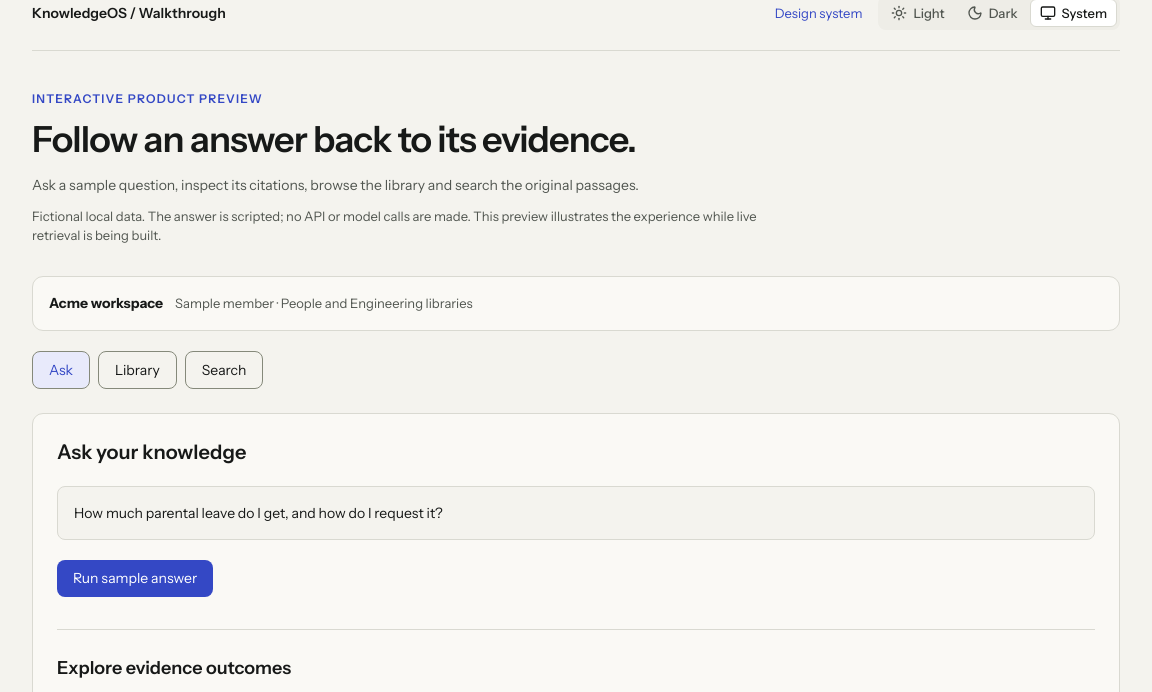
Test: demo walkthrough › opens the original passage through an answer citation
Click the button "Run sample answer".
click(135, 578)  # box [57, 560, 213, 597]
(page scrolled)
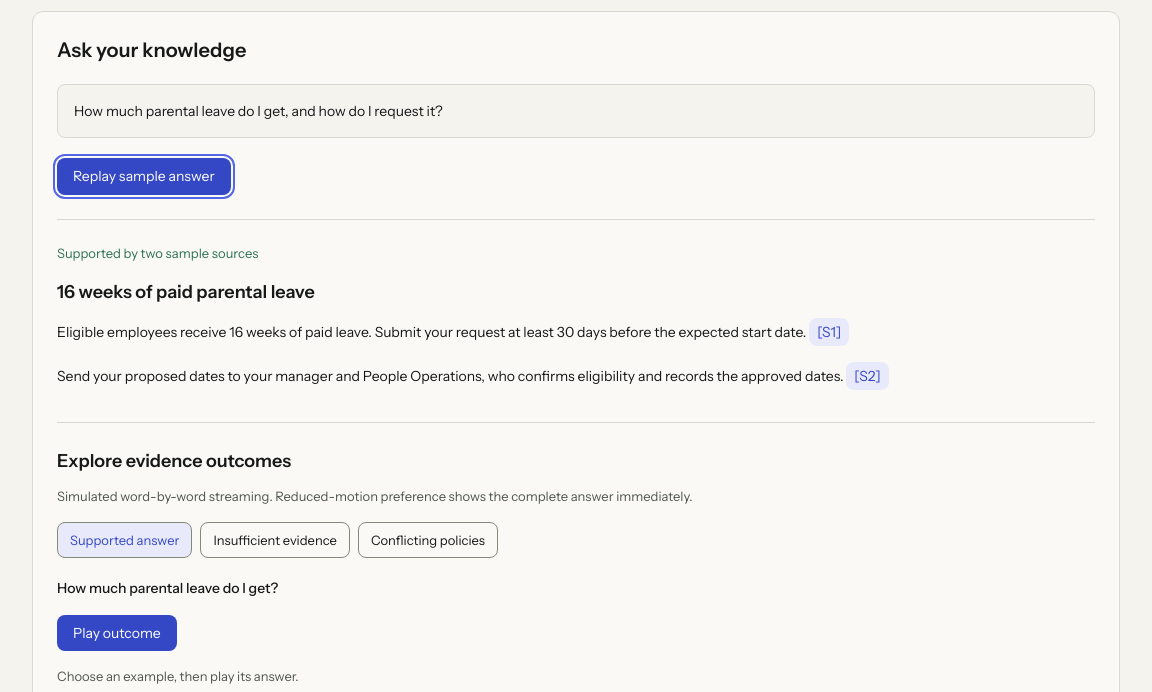
Click the button named "Inspect source S1".
click(829, 332)  # box [809, 318, 849, 346]
(page scrolled)
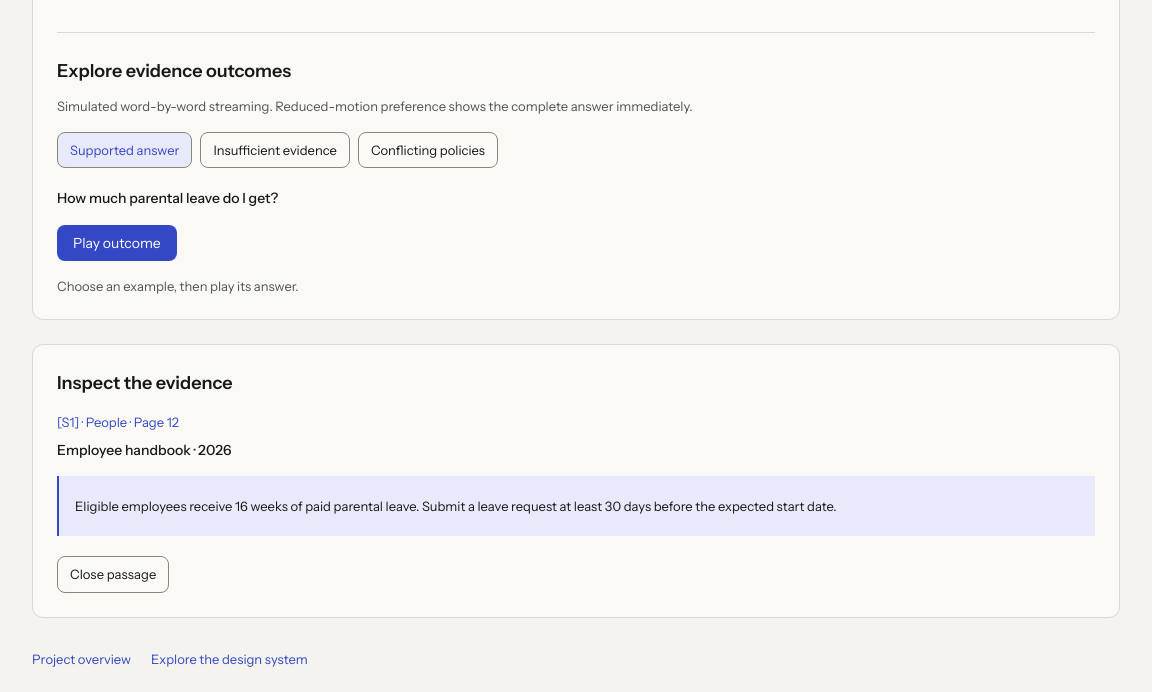
Expected: the element named "Source evidence" shows "Employee handbook", [57, 441, 232, 459]
Expected: the element named "Source evidence" shows "Page 12", [32, 344, 1120, 618]
